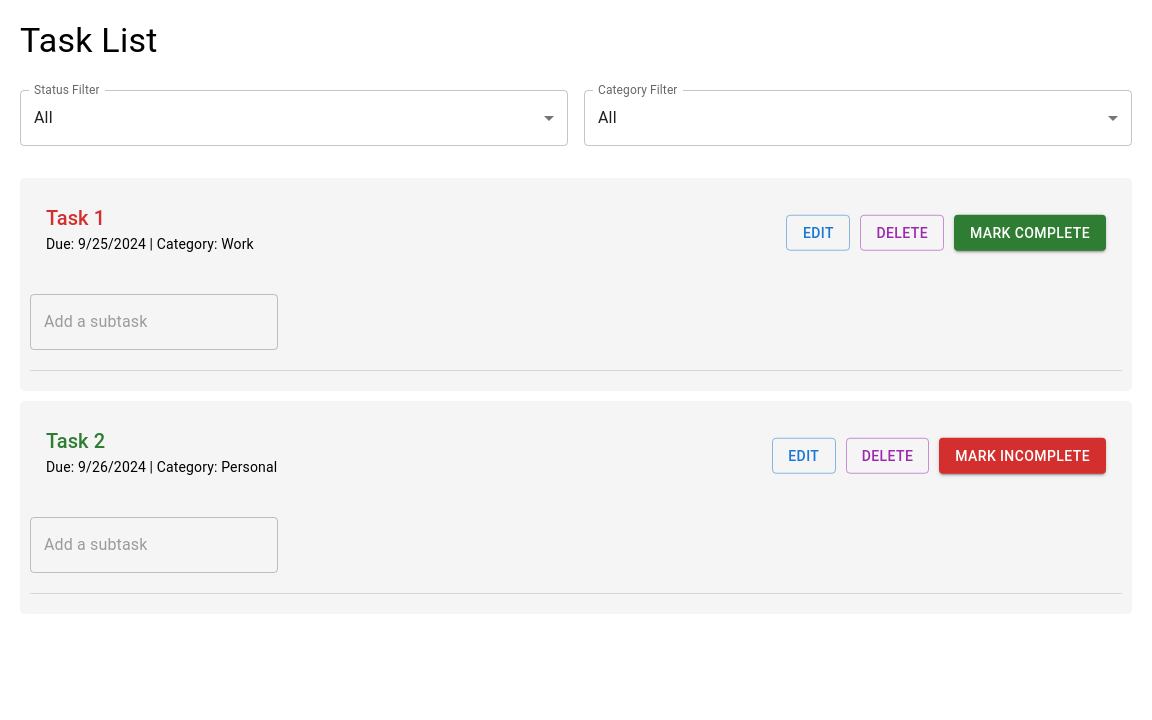
Test: TaskList Component › filters tasks based on category
The image size is (1152, 720).
Click the dropdown named "Category Filter". click: coordinates (607, 118)
box: [598,108,617,127]
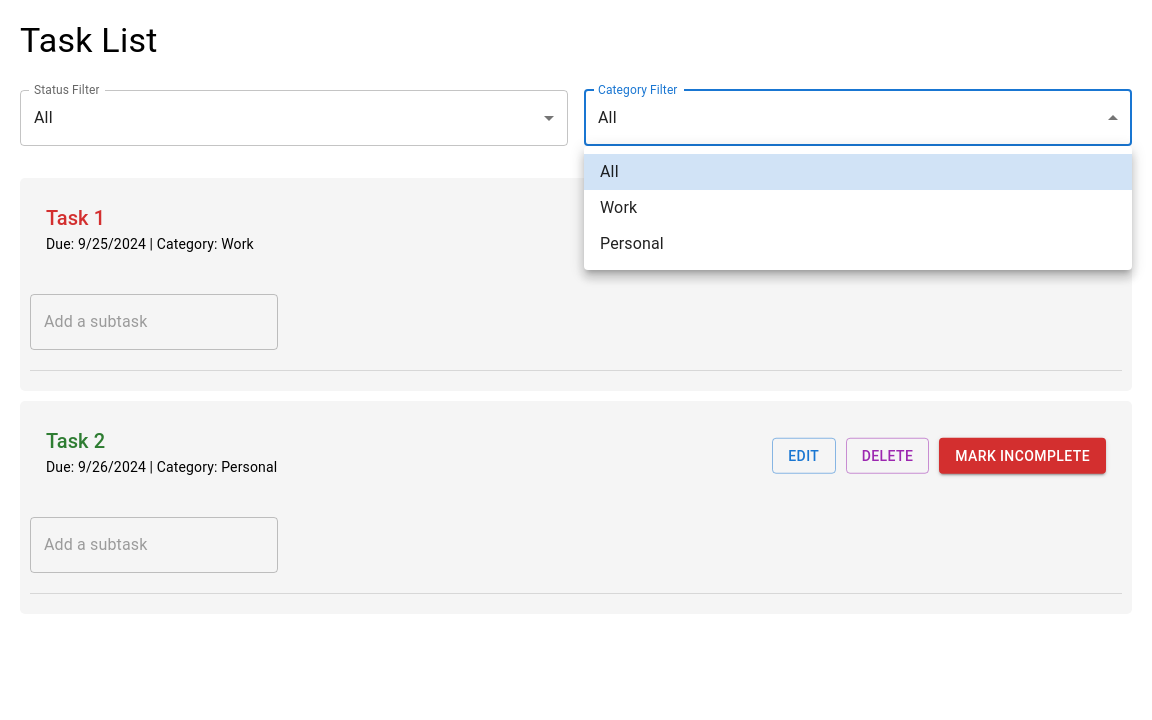
Click the option "Work". click: coordinates (619, 208)
box: [600,198,637,217]
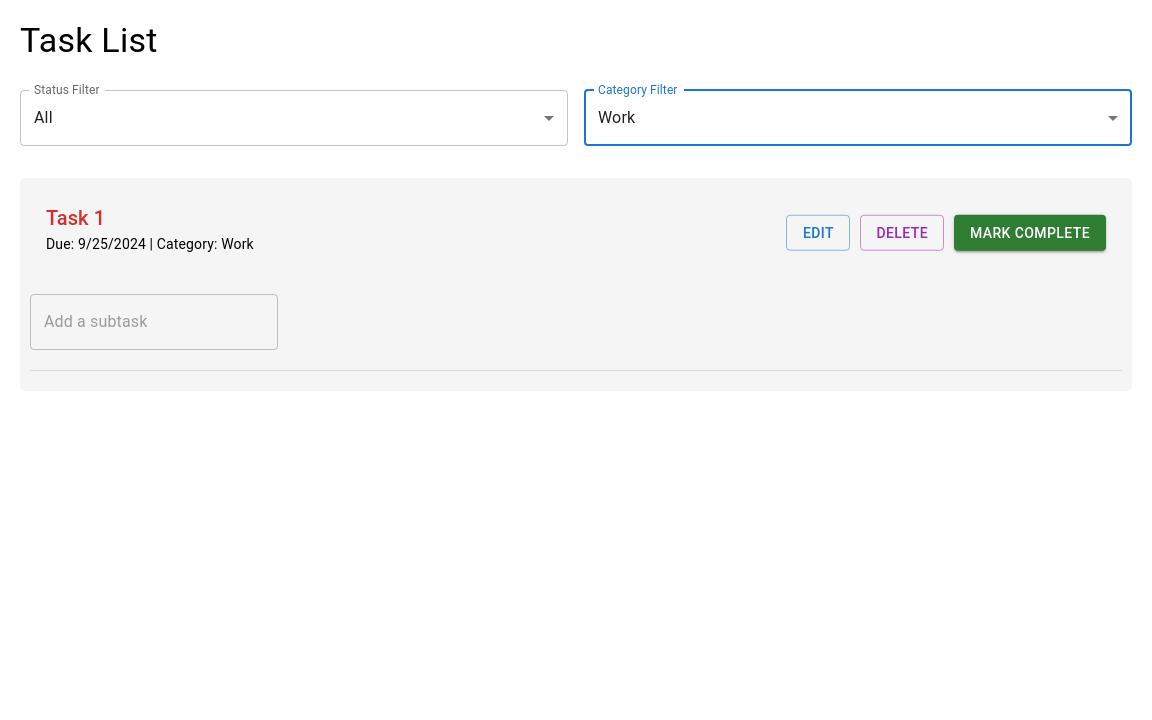
Check: the heading "Task 1" is shown, box [46,206,105,230]
Check: the heading "Task 2" is gone
